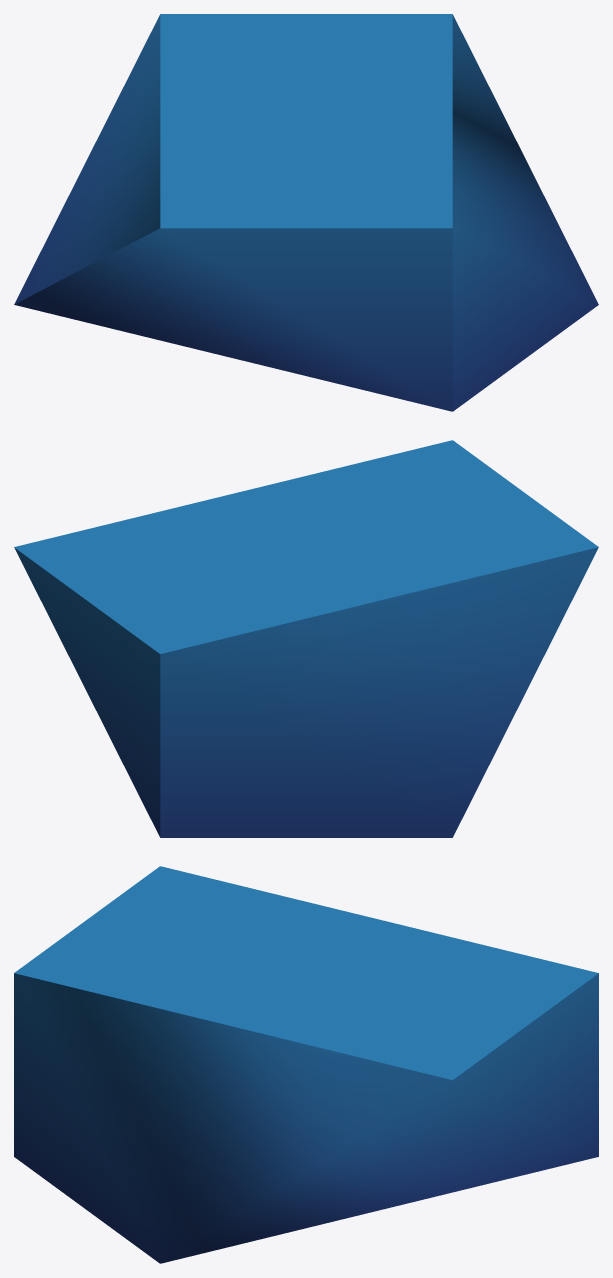
File: hex_water-mid.glb
3 views of the same model, one above another, from view 1: azimuth 30°, elevation 25°; view 2: azimuth 150°, elevation 25°; view 3: azimuth 270°, elevation 25° (orthographic).
Visible parts, largest first — view 1: hex_water; view 2: hex_water; view 3: hex_water.
Part boxes in pixels (x1,y1,x2,y2): hex_water: (14, 14, 598, 411); hex_water: (14, 440, 598, 837); hex_water: (14, 866, 598, 1263).
Bounding box in the file's own units: 2 × 0.8 × 2.31.
1 material, 1 textured.
